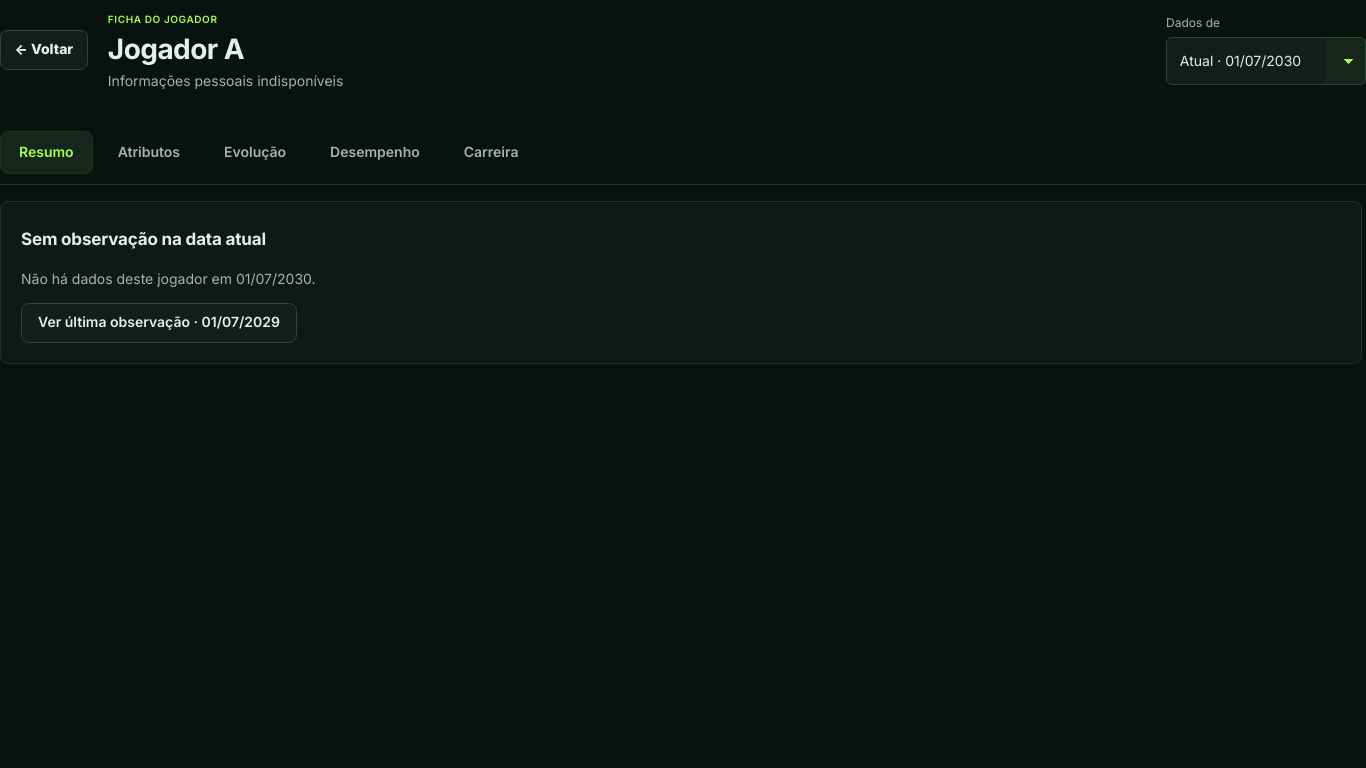
Test: PlayerPage focused profile › não promove a última observação para atual e mantém acesso ao histórico
The image size is (1366, 768).
Expected: the heading "Sem observação na data atual" is shown, [21,229,266,249]
Click the button "Ver última observação · 01/07/2029": point(159, 323) [21,303,297,343]
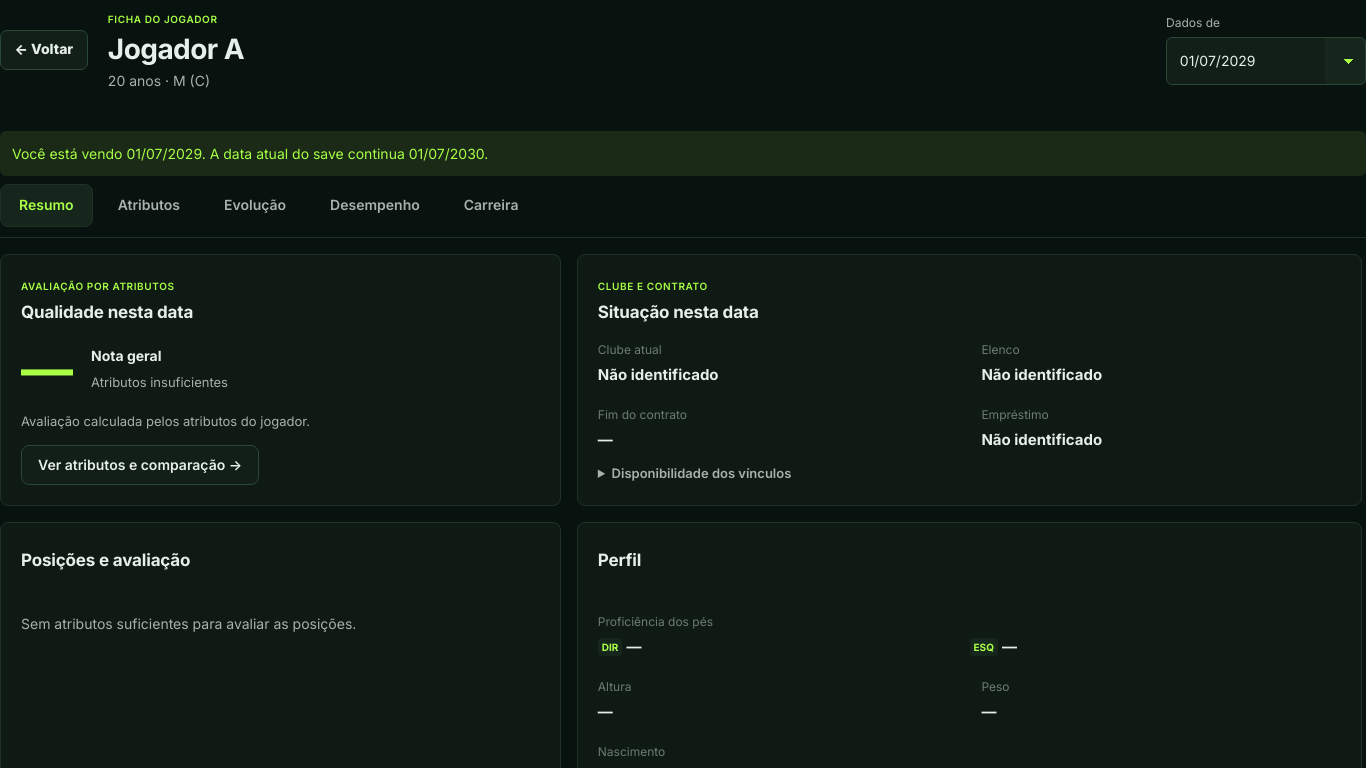
Expected: the heading "Qualidade nesta data" is shown, [21,302,193,322]
Expected: the text "Você está vendo" is shown, [12,145,126,162]
